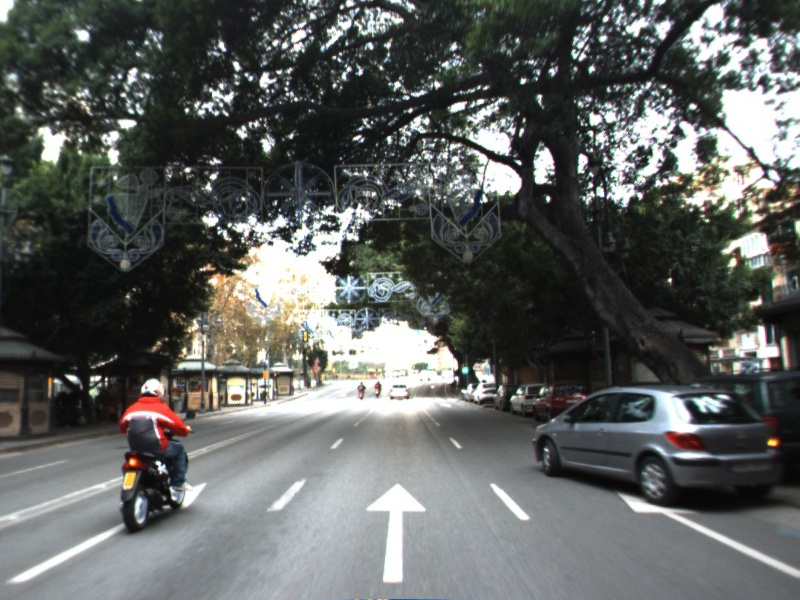STRAIGHT: (611, 486, 800, 580), (362, 480, 430, 586)
